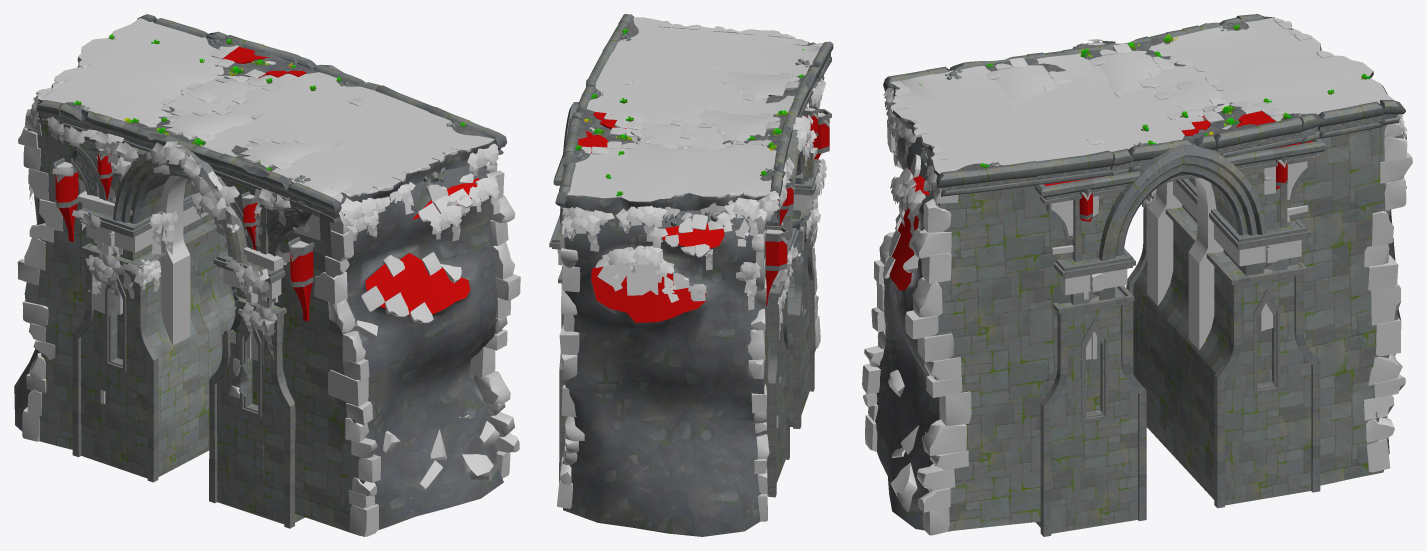
File: SkillObj_Monster_Dvalin_Platform_07.fbx
The picture shows the model from 3 angles, left to right: view 1: azimuth 30°, elevation 25°; view 2: azimuth 150°, elevation 25°; view 3: azimuth 270°, elevation 25°; orthographic projection. The views are drawn at different scales.
Visible parts, largest first — view 1: Area_MdBuild_SdArch01_01_Wall01_Lod0, Area_MdBuild_SdBridge13_Lod0.001, Area_MdBuild_SdArch01_01_Edge01_Lod0, Area_MdBuild_SdRuins07_07_Lod0, Area_MdBuild_SdWall01_08_Lod0, Area_MdBuild_SdWall01_08_Lod0.001, Area_MdProps_SdWall_Item01_01_Lod0.001, Area_MdProps_SdWall_Item01_01_Lod0, Area_MdBuild_SdArch06_02_Lod0, Area_MdBuild_SdArch06_01_Lod0, Area_MdProps_SdRock01_01_Lod0.022, Area_MdProps_SdRock01_05_Lod0.010 (+16 smaller); view 2: Area_MdBuild_SdArch01_01_Wall01_Lod0, Area_MdBuild_SdBridge13_Lod0.001, Area_MdBuild_SdArch01_01_Edge01_Lod0, Area_MdBuild_SdRuins07_07_Lod0, Area_MdBuild_SdWall01_08_Lod0, Area_MdBuild_SdWall01_08_Lod0.001, Area_MdProps_SdWall_Item01_01_Lod0, Stages_LYLvy11_Vo.006, Stages_LYLvy11_Vo.014, Stages_LYLvy20_Vo.002, Stages_LYLvy11_Vo.008, Stages_LYLvy11_Vo.007 (+12 smaller); view 3: Area_MdBuild_SdArch01_01_Wall01_Lod0, Area_MdBuild_SdBridge13_Lod0.001, Area_MdBuild_SdArch01_01_Edge01_Lod0, Area_MdBuild_SdRuins07_07_Lod0, Area_MdBuild_SdWall01_08_Lod0, Area_MdBuild_SdWall01_08_Lod0.001, Area_MdProps_SdRock01_03_Lod0.006, Area_MdProps_SdRock01_05_Lod0.014, Area_MdProps_SdRock01_01_Lod0.019, Area_MdProps_SdRock01_02_Lod0.008, Area_MdProps_SdRock01_03_Lod0.016, Area_MdProps_SdRock01_01_Lod0.011 (+14 smaller).
Boxes of the visible parts, x1,y1,x2,y2 form: Area_MdBuild_SdArch01_01_Wall01_Lod0: (14,123,503,535); Area_MdBuild_SdBridge13_Lod0.001: (36,14,507,223); Area_MdBuild_SdArch01_01_Edge01_Lod0: (72,64,343,528); Area_MdBuild_SdRuins07_07_Lod0: (158,76,255,117); Area_MdBuild_SdWall01_08_Lod0: (162,110,263,141); Area_MdBuild_SdWall01_08_Lod0.001: (240,138,342,168); Area_MdProps_SdWall_Item01_01_Lod0.001: (288,237,314,321); Area_MdProps_SdWall_Item01_01_Lod0: (53,158,78,241); Area_MdBuild_SdArch06_02_Lod0: (255,190,311,256); Area_MdBuild_SdArch06_01_Lod0: (70,141,106,200); Area_MdProps_SdRock01_01_Lod0.022: (328,369,368,406); Area_MdProps_SdRock01_05_Lod0.010: (314,271,347,304); Area_MdBuild_SdArch01_01_Wall01_Lod0: (556,161,816,536); Area_MdBuild_SdBridge13_Lod0.001: (555,14,833,216); Area_MdBuild_SdArch01_01_Edge01_Lod0: (549,85,821,497); Area_MdBuild_SdRuins07_07_Lod0: (630,120,747,150); Area_MdBuild_SdWall01_08_Lod0: (692,108,780,141); Area_MdBuild_SdWall01_08_Lod0.001: (711,67,799,100); Area_MdProps_SdWall_Item01_01_Lod0: (765,225,789,305); Stages_LYLvy11_Vo.006: (561,214,600,251); Stages_LYLvy11_Vo.014: (626,245,663,282); Stages_LYLvy20_Vo.002: (626,260,658,295); Stages_LYLvy11_Vo.008: (615,205,656,241); Stages_LYLvy11_Vo.007: (724,197,759,235); Area_MdBuild_SdArch01_01_Wall01_Lod0: (875,124,1406,533); Area_MdBuild_SdBridge13_Lod0.001: (883,14,1405,196); Area_MdBuild_SdArch01_01_Edge01_Lod0: (1034,42,1326,536); Area_MdBuild_SdRuins07_07_Lod0: (1145,59,1225,112); Area_MdBuild_SdWall01_08_Lod0: (1089,44,1174,98); Area_MdBuild_SdWall01_08_Lod0.001: (986,58,1070,112); Area_MdProps_SdRock01_03_Lod0.006: (921,419,966,455); Area_MdProps_SdRock01_05_Lod0.014: (1370,284,1400,325); Area_MdProps_SdRock01_01_Lod0.019: (939,391,971,425); Area_MdProps_SdRock01_02_Lod0.008: (912,277,942,317); Area_MdProps_SdRock01_03_Lod0.016: (911,229,951,258); Area_MdProps_SdRock01_01_Lod0.011: (917,333,953,362).
Bounding box in the file's own units: 34.33 × 35.53 × 47.19.
